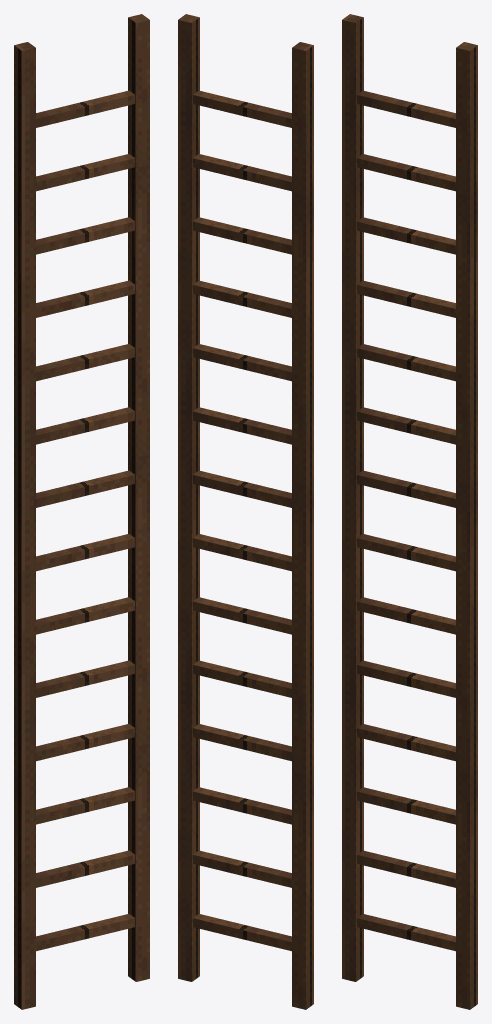
The model's file is escalera_mano.obj.
3 renders of one model, left to right at view 1: azimuth 30°, elevation 25°; view 2: azimuth 150°, elevation 25°; view 3: azimuth 330°, elevation 25°, orthographic.
Parts seen in each view (by area): view 1: escalera_mano; view 2: escalera_mano; view 3: escalera_mano.
Boxes of the visible parts, x1,y1,x2,y2 form: escalera_mano: (14,14,149,1009); escalera_mano: (178,14,313,1009); escalera_mano: (342,14,477,1009).
Bounding box in the file's own units: 0.74 × 5.3 × 0.08.
Materials: 1 (1 with a texture image).
